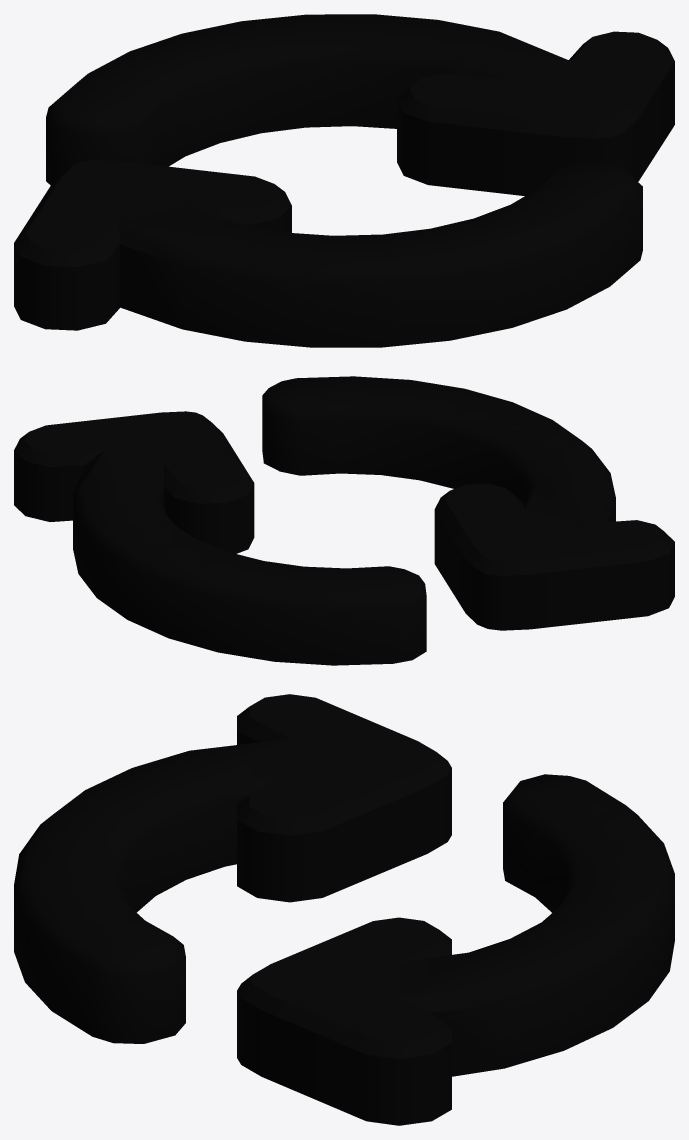
The model's file is swap.fbx.
3 views of the same model, one above another, from view 1: azimuth 30°, elevation 25°; view 2: azimuth 150°, elevation 25°; view 3: azimuth 270°, elevation 25° (orthographic). The views are drawn at different scales.
Parts seen in each view (by area): view 1: Circle.021; view 2: Circle.021; view 3: Circle.021.
Part boxes in pixels (box(x1,y1,x2,y2)): Circle.021: box(14, 14, 674, 347); Circle.021: box(14, 376, 674, 665); Circle.021: box(14, 694, 674, 1125).
Bounding box in the file's own units: 142 × 14.4 × 110.
